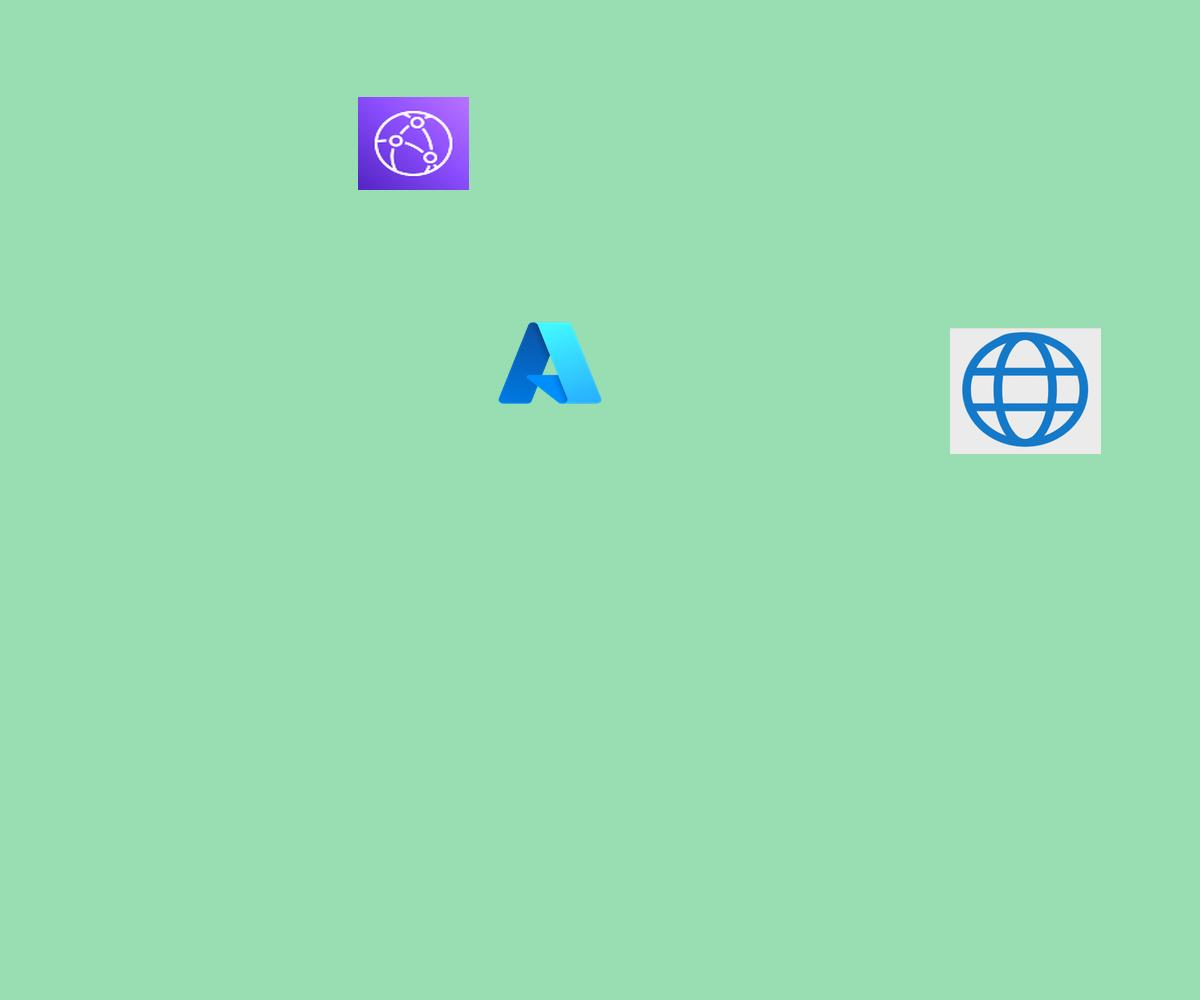AWS-CloudFront: (358, 97, 469, 190)
Azure_http: (950, 328, 1101, 454)
Azure_services: (494, 316, 606, 410)
